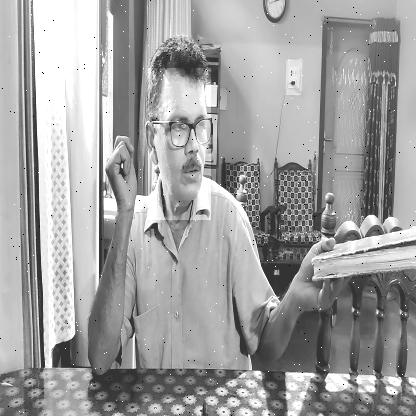Distracted: (148, 68, 211, 220)
